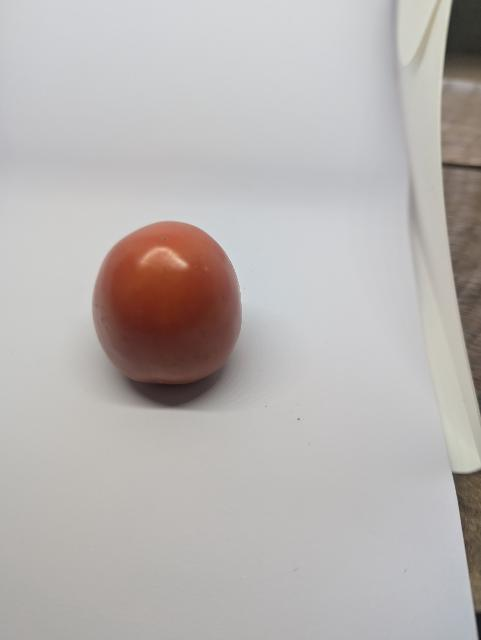red: (67, 214, 266, 404)
